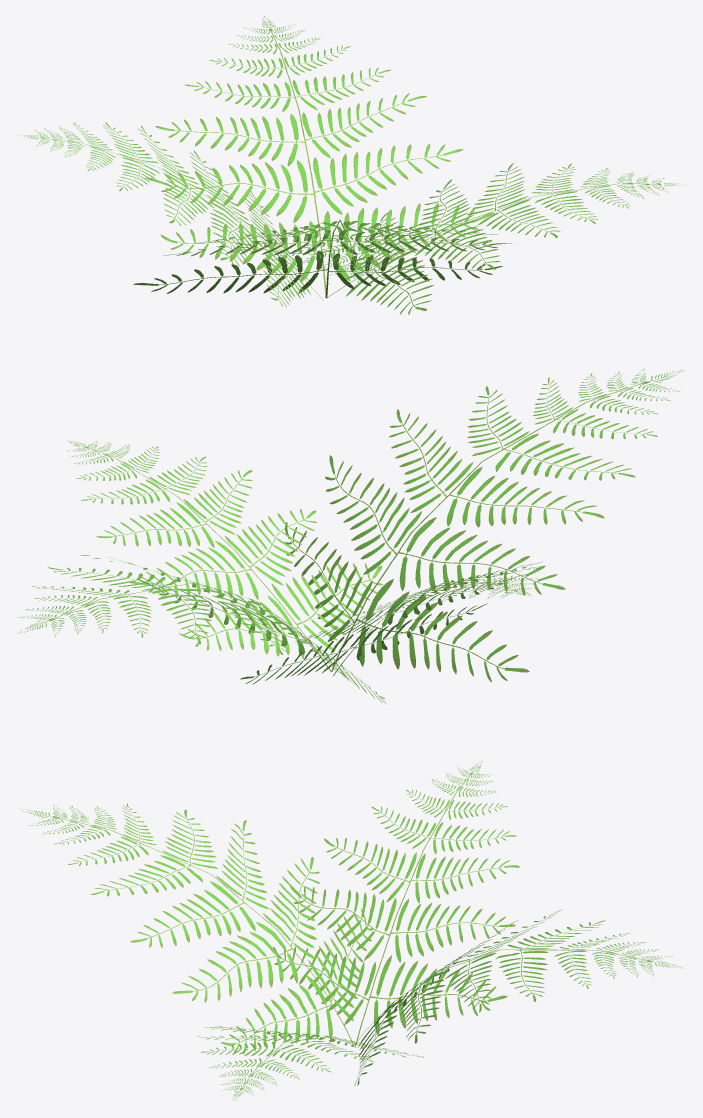
The model's file is SM_Fern_Small_One.fbx.
The picture shows the model from 3 angles, top to bottom: view 1: azimuth 30°, elevation 25°; view 2: azimuth 150°, elevation 25°; view 3: azimuth 270°, elevation 25°; orthographic projection. The views are drawn at different scales.
Visible parts, largest first — view 1: pPlane10; view 2: pPlane10; view 3: pPlane10.
Part boxes in pixels (bbox=[...]): pPlane10: bbox=[18, 16, 685, 314]; pPlane10: bbox=[17, 368, 684, 703]; pPlane10: bbox=[20, 760, 683, 1101].
Bounding box in the file's own units: 99.66 × 110 × 31.15.
